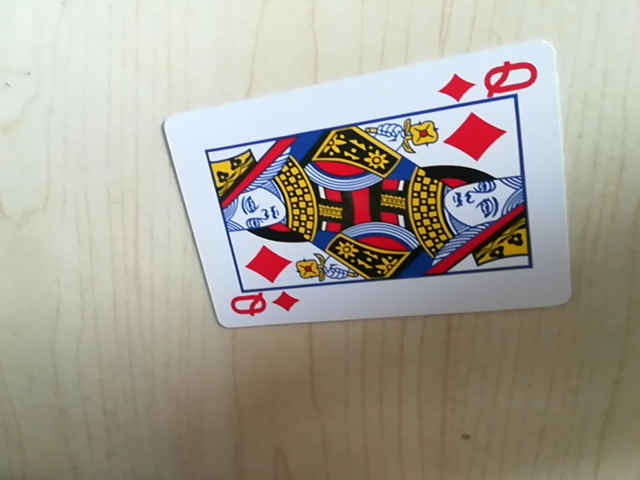fk q: (441, 56, 546, 106), (224, 287, 300, 328)
